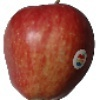apple: (4, 3, 96, 100)
